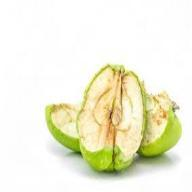apple: (76, 66, 144, 170), (136, 63, 182, 162)
